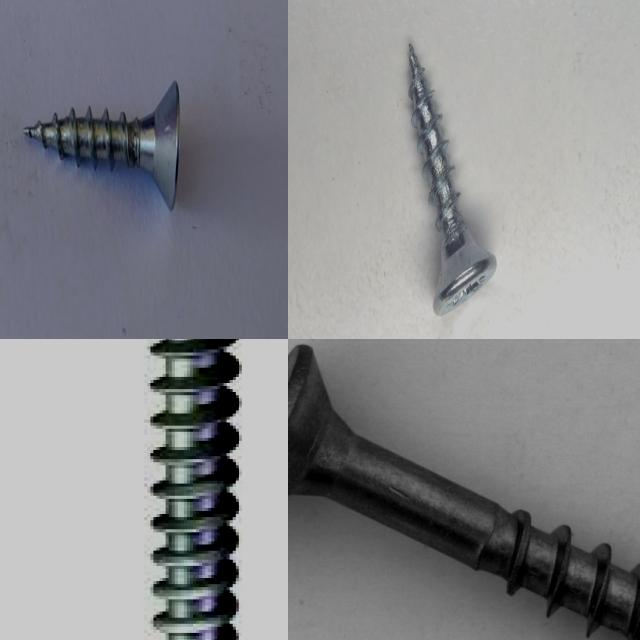Screw: (288, 339, 640, 640), (147, 339, 242, 640), (408, 42, 497, 315), (24, 81, 181, 210)
